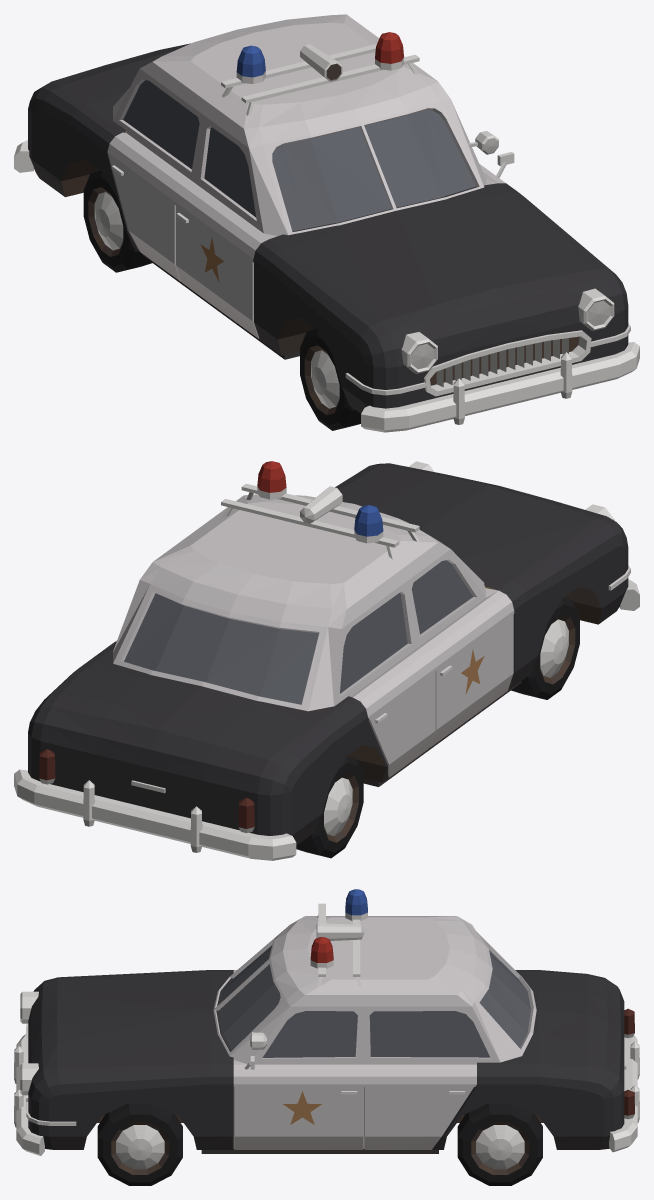
The model's file is patrol-cruiser-bed309.glb.
The picture shows the model from 3 angles, top to bottom: view 1: azimuth 30°, elevation 25°; view 2: azimuth 150°, elevation 25°; view 3: azimuth 270°, elevation 25°; orthographic projection. The views are drawn at different scales.
Parts seen in each view (by area): view 1: patrol-cruiser-body, door-fr-mesh, door-rr-mesh, wheel-rr-mesh, wheel-fr-mesh; view 2: patrol-cruiser-body, door-fr-mesh, door-rr-mesh, wheel-rr-mesh, wheel-fr-mesh; view 3: patrol-cruiser-body, door-fl-mesh, door-rl-mesh, wheel-rl-mesh, wheel-fl-mesh.
Boxes of the visible parts, x1,y1,x2,y2 form: patrol-cruiser-body: (14, 14, 639, 432); door-fr-mesh: (175, 116, 277, 338); door-rr-mesh: (107, 68, 204, 281); wheel-rr-mesh: (83, 170, 151, 272); wheel-fr-mesh: (300, 328, 360, 430); patrol-cruiser-body: (14, 461, 639, 860); door-fr-mesh: (406, 549, 514, 747); door-rr-mesh: (334, 582, 435, 777); wheel-rr-mesh: (296, 756, 363, 858); wheel-fr-mesh: (511, 598, 579, 699); patrol-cruiser-body: (14, 889, 639, 1155); door-fl-mesh: (233, 1006, 363, 1149); door-rl-mesh: (364, 1006, 500, 1149); wheel-rl-mesh: (457, 1104, 542, 1185); wheel-fl-mesh: (97, 1104, 182, 1185).
Bounding box in the file's own units: 2.21 × 2.03 × 5.09.
